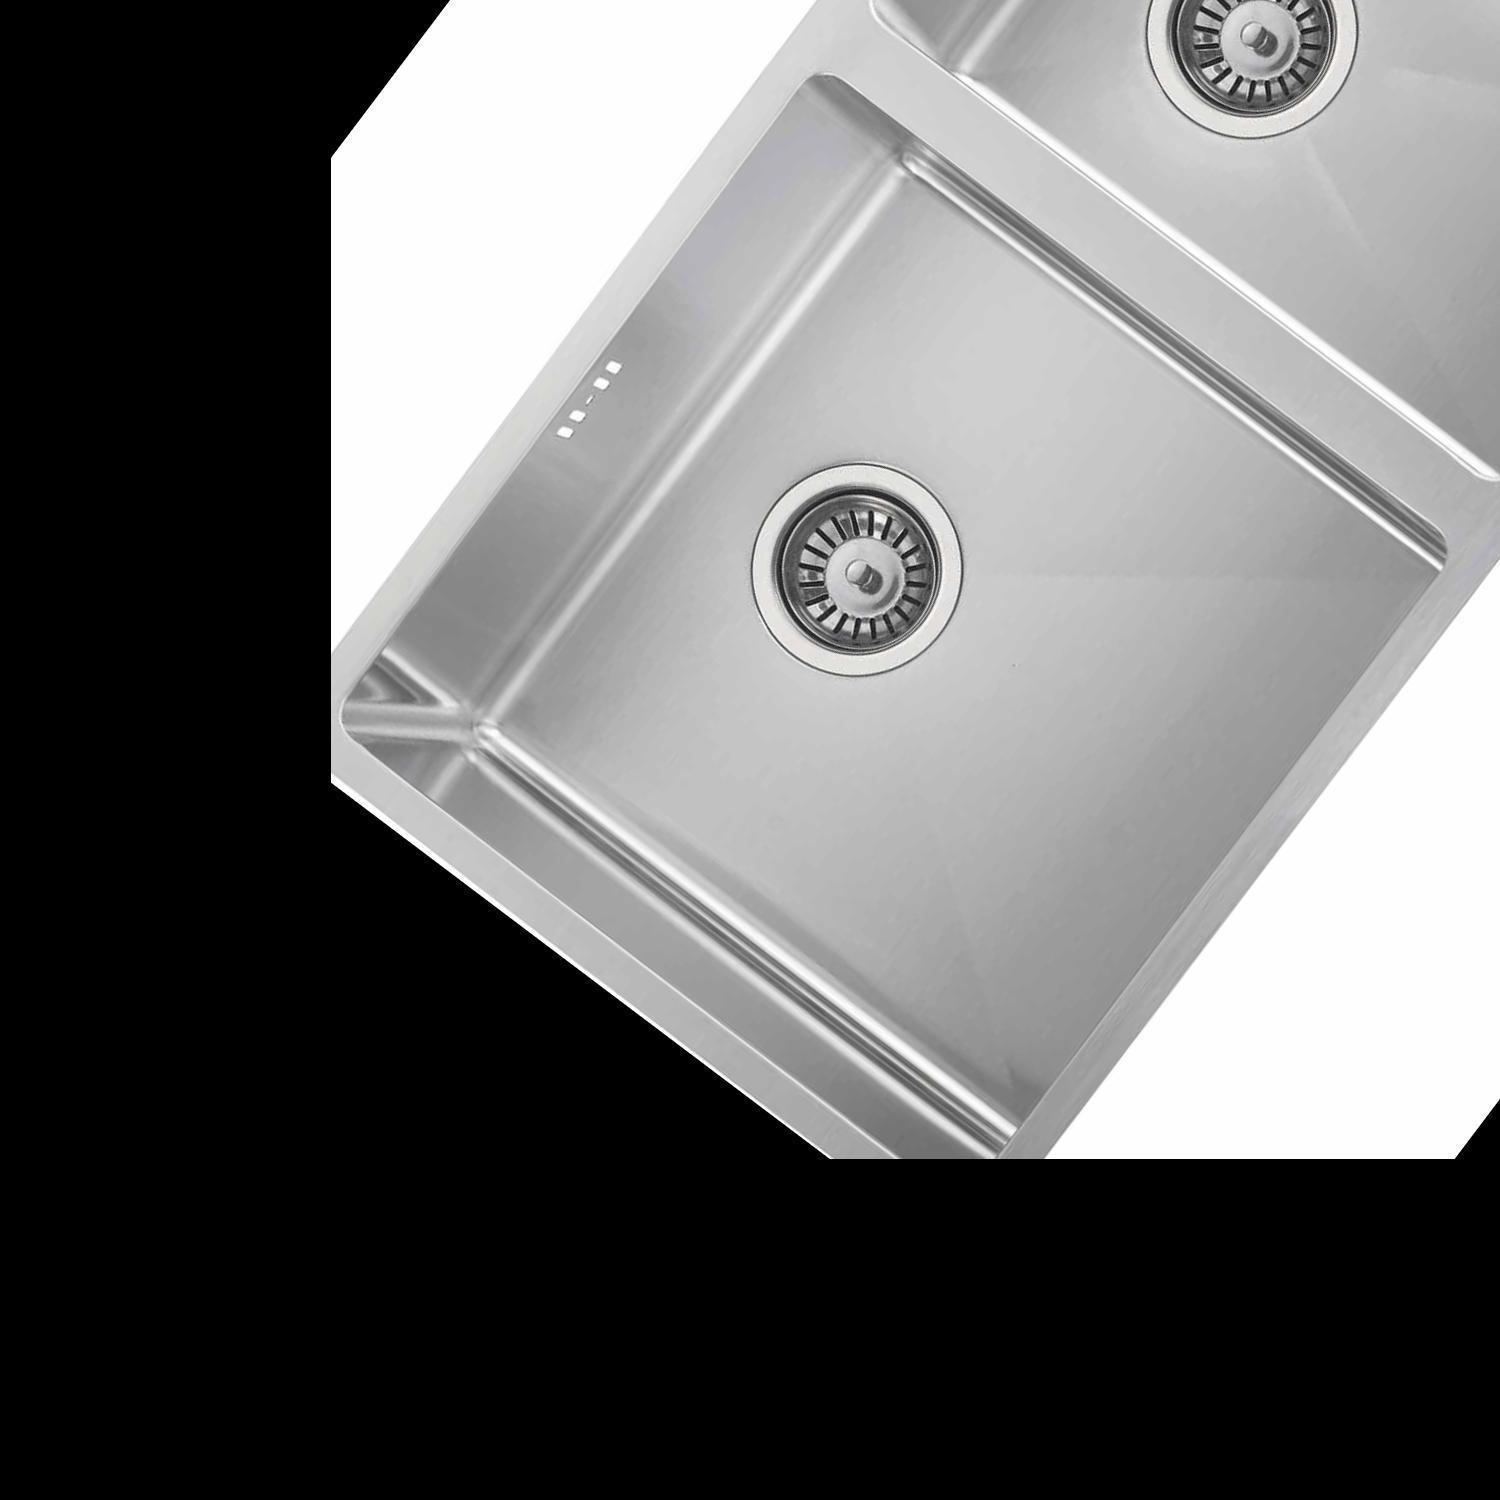Lavaplatos: (179, 0, 1500, 1288)
